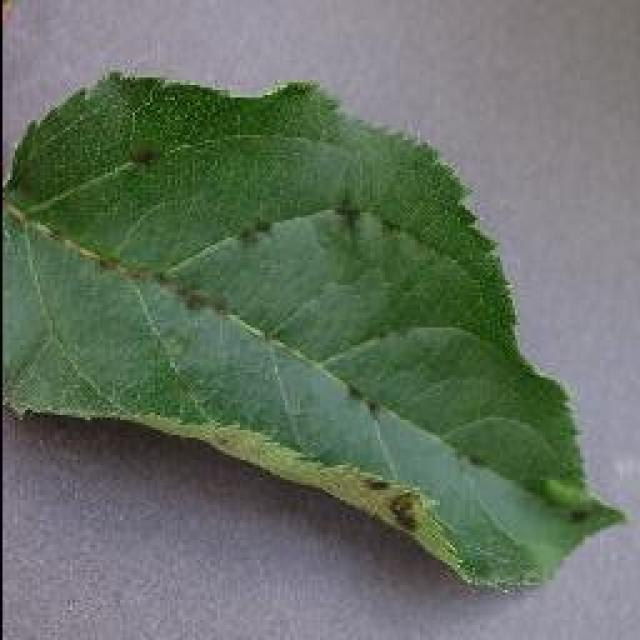apple scab disease: (0, 68, 625, 592)
